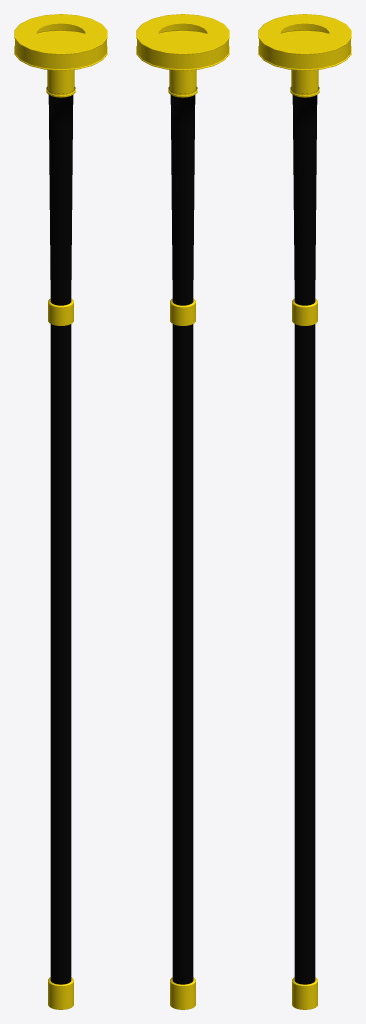
Rendered from naginata_Handle.FBX.
3 views of the same model, side by side, from view 1: azimuth 90°, elevation 25°; view 2: azimuth 150°, elevation 25°; view 3: azimuth 330°, elevation 25° (orthographic).
Parts seen in each view (by area): view 1: Staff_, Staff_Details; view 2: Staff_, Staff_Details; view 3: Staff_, Staff_Details.
Boxes of the visible parts, x1,y1,x2,y2 form: Staff_: (46,87,75,984); Staff_Details: (14,14,107,1009); Staff_: (168,87,197,984); Staff_Details: (136,14,229,1009); Staff_: (290,87,319,984); Staff_Details: (258,14,351,1009).
Size of the model in its own units: 20.17 by 228 by 19.87.
